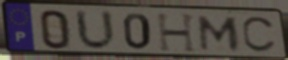0: (39, 9, 72, 51), (121, 12, 152, 51)
C: (241, 15, 278, 55)
H: (154, 13, 199, 54)
M: (198, 15, 242, 52)
U: (73, 9, 119, 53)
